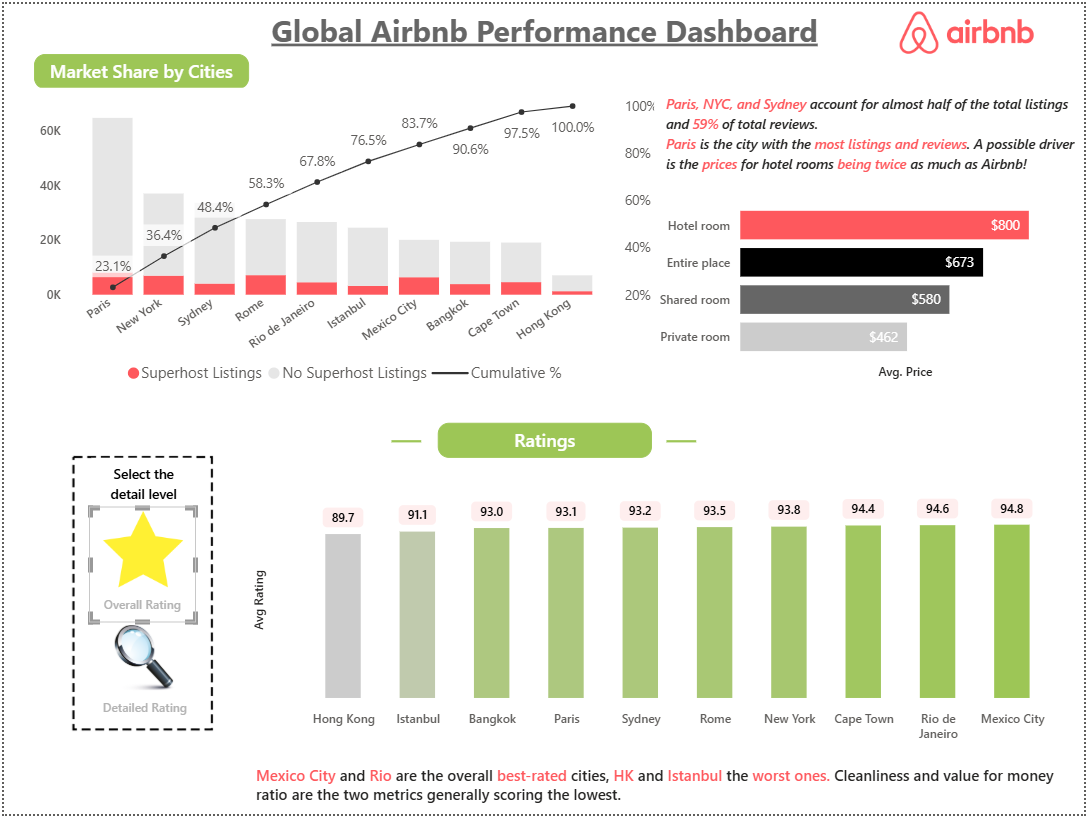

The dashboard page shown, as its layout file describes it:
{"tool":"powerbi","page":{"name":"Ratings","canvas":[960,720],"ordinal":1},"visuals":[{"type":"textbox","box":[226.1,0,507.7,51.7],"z":0},{"type":"textbox","box":[386.3,372.2,190.7,31],"z":0,"group":"g1"},{"type":"image","box":[83.7,446.6,80.3,75.8],"z":0,"group":"g2"},{"type":"image","box":[83.7,551.8,80.3,59.9],"z":0,"group":"g3"},{"type":"image","box":[789.2,6.8,133.4,37.3],"z":1000},{"type":"shape","box":[344.9,360.7,26.4,55.1],"z":1000,"group":"g1"},{"type":"textbox","box":[75.8,519,95,30.5],"z":1000,"group":"g2"},{"type":"textbox","box":[78,609.5,95,30.5],"z":1000,"group":"g3"},{"type":"textbox","box":[27,44,191,31],"z":2000},{"type":"shape","box":[589.6,360.7,26.4,55.1],"z":2000,"group":"g1"},{"type":"lineStackedColumnComboChart","fields":{"Category":["Listings.city"],"Y":["Listings.Superhost Listings","Listings.No Superhost Listings"],"Y2":["Listings.Cumulative %"]},"box":[27.1,74.6,556.3,272.5],"z":3000},{"type":"barChart","fields":{"Y":["Listings.Avg. Price"],"Category":["Listings.room_type"]},"box":[576.6,158.3,376.5,180.9],"z":4000},{"type":"textbox","box":[583.4,74.6,376.5,83.7],"z":5000},{"type":"group","id":"g1","title":"Title","box":[344.9,360.7,272.5,55.4],"z":6000},{"type":"image","box":[28.3,377.6,191.1,291.7],"z":8000},{"type":"pivotTable","fields":{"Rows":["Listings.city"],"Values":["Listings.Accuracy","Listings.Cleanliness","Listings.Communication","Listings.Location","Listings.Value"]},"box":[213.7,428.5,727,235.2],"z":9000},{"type":"textbox","box":[78,403.6,92.7,48.6],"z":10000},{"type":"group","id":"g2","title":"Overall Rating","box":[75.8,446.6,95,102.9],"z":11000},{"type":"group","id":"g3","title":"Detailed Rating","box":[78,551.8,95,88.2],"z":12000},{"type":"textbox","box":[219.3,671.6,724.8,48.6],"z":13000}]}

Visuals, with their boxes in screenshot pixels (x1, y1, x2, y2), scaled from the page's 960x720 canvas onto the 1086x817 screenshot:
textbox: crop(256, 0, 830, 59)
textbox: crop(437, 422, 653, 458)
image: crop(95, 507, 186, 593)
image: crop(95, 626, 186, 694)
image: crop(893, 8, 1044, 50)
shape: crop(390, 409, 420, 472)
textbox: crop(86, 589, 193, 624)
textbox: crop(88, 692, 196, 726)
textbox: crop(31, 50, 247, 85)
shape: crop(667, 409, 697, 472)
lineStackedColumnComboChart - Listings.city x Listings.Superhost Listings: crop(31, 85, 660, 394)
barChart - Listings.Avg. Price x Listings.room_type: crop(652, 180, 1078, 385)
textbox: crop(660, 85, 1085, 180)
"Title" group: crop(390, 409, 698, 472)
image: crop(32, 428, 248, 759)
pivotTable - Listings.city x Listings.Accuracy: crop(242, 486, 1064, 753)
textbox: crop(88, 458, 193, 513)
"Overall Rating" group: crop(86, 507, 193, 624)
"Detailed Rating" group: crop(88, 626, 196, 726)
textbox: crop(248, 762, 1068, 816)
